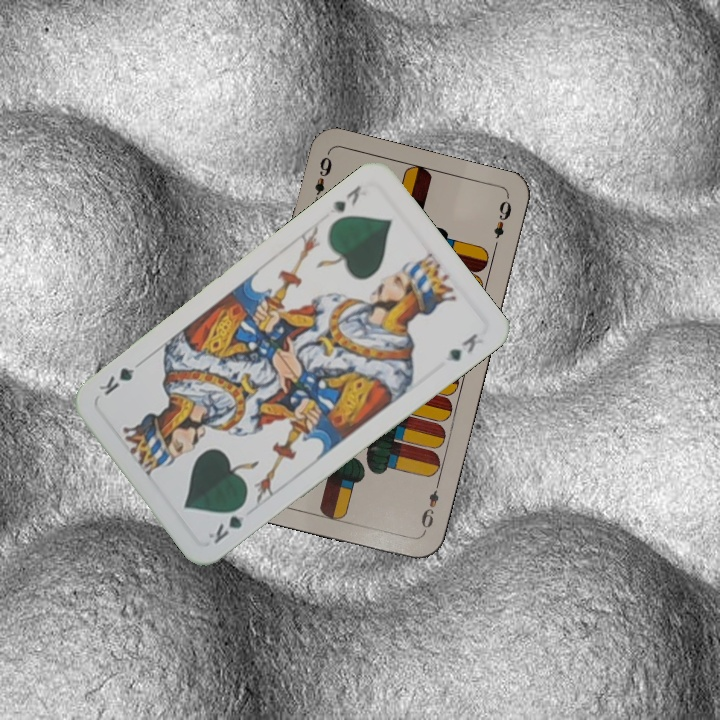E9: (308, 152, 335, 209), (417, 478, 443, 536)
GK: (203, 499, 249, 547), (328, 181, 370, 215)
